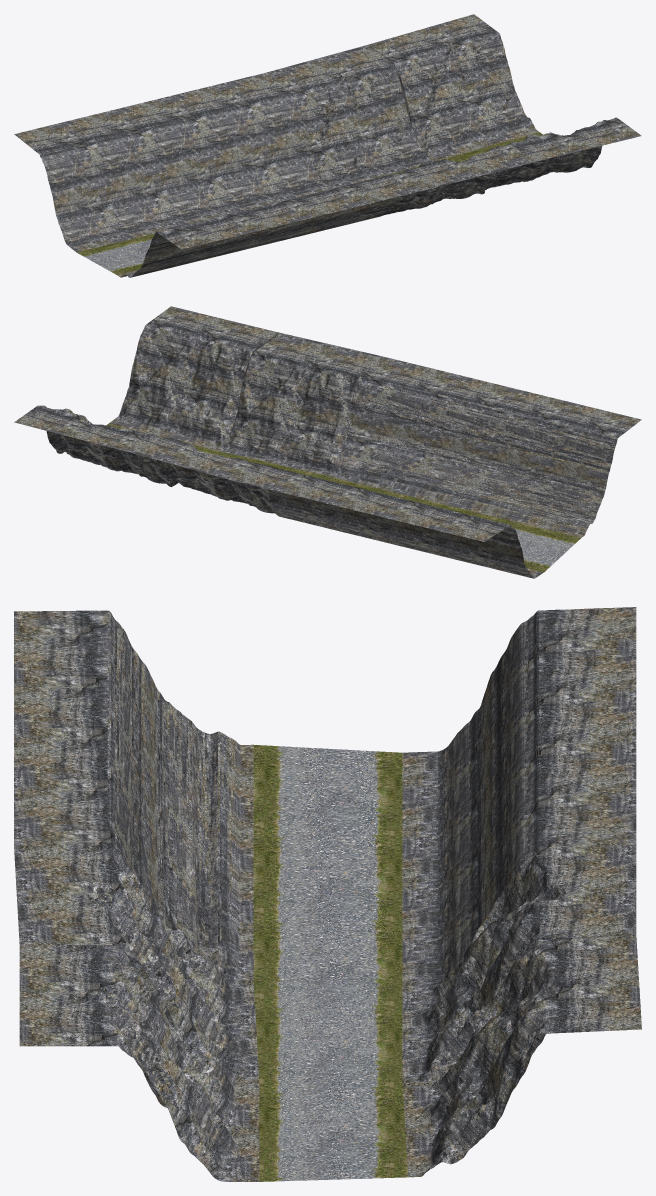
3 views of the same model, one above another, from view 1: azimuth 30°, elevation 25°; view 2: azimuth 150°, elevation 25°; view 3: azimuth 270°, elevation 25° (orthographic). The views are drawn at different scales.
Parts seen in each view (by area): view 1: Landscape.002; view 2: Landscape.002; view 3: Landscape.002.
Boxes of the visible parts, bbox=[...] form: Landscape.002: bbox=[14, 14, 641, 277]; Landscape.002: bbox=[14, 306, 641, 578]; Landscape.002: bbox=[14, 607, 641, 1181].
Bounding box in the file's own units: 8.71 × 1.44 × 5.24.
Materials: 2 (2 with a texture image).
